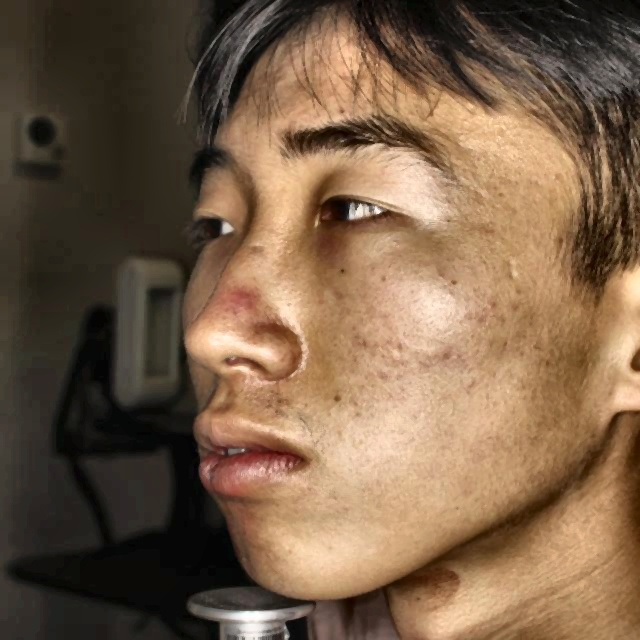comedone: (228, 286, 260, 313)
